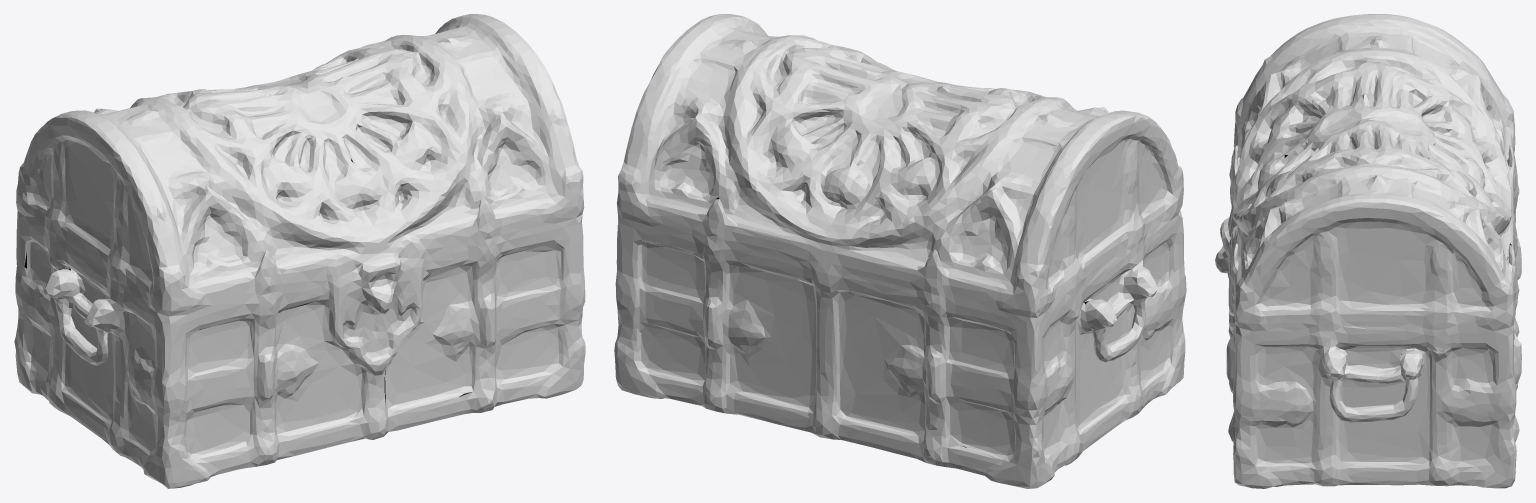
Rendered from orn_chest01.glb.
The picture shows the model from 3 angles, left to right: view 1: azimuth 30°, elevation 25°; view 2: azimuth 150°, elevation 25°; view 3: azimuth 270°, elevation 25°; orthographic projection. The views are drawn at different scales.
Visible parts, largest first — view 1: Low; view 2: Low; view 3: Low.
Boxes of the visible parts, left/top/right/bottom form: Low: left=14, top=14, right=585, bottom=488; Low: left=614, top=14, right=1186, bottom=488; Low: left=1215, top=14, right=1521, bottom=488.
Bounding box in the file's own units: 1.99 × 1.26 × 1.21.
Materials: 1 (1 with a texture image).
